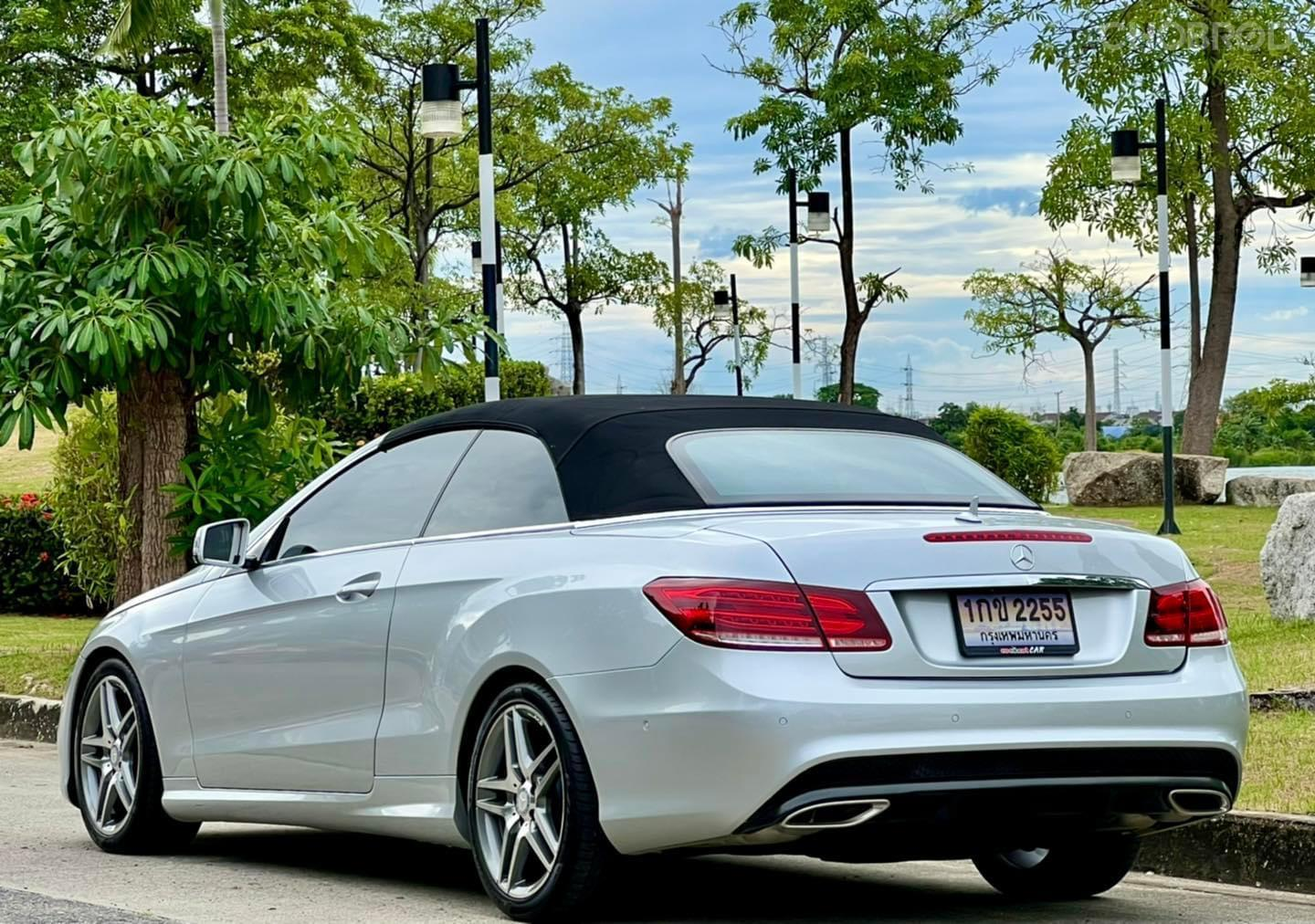license-plate: (941, 569, 1091, 673)
